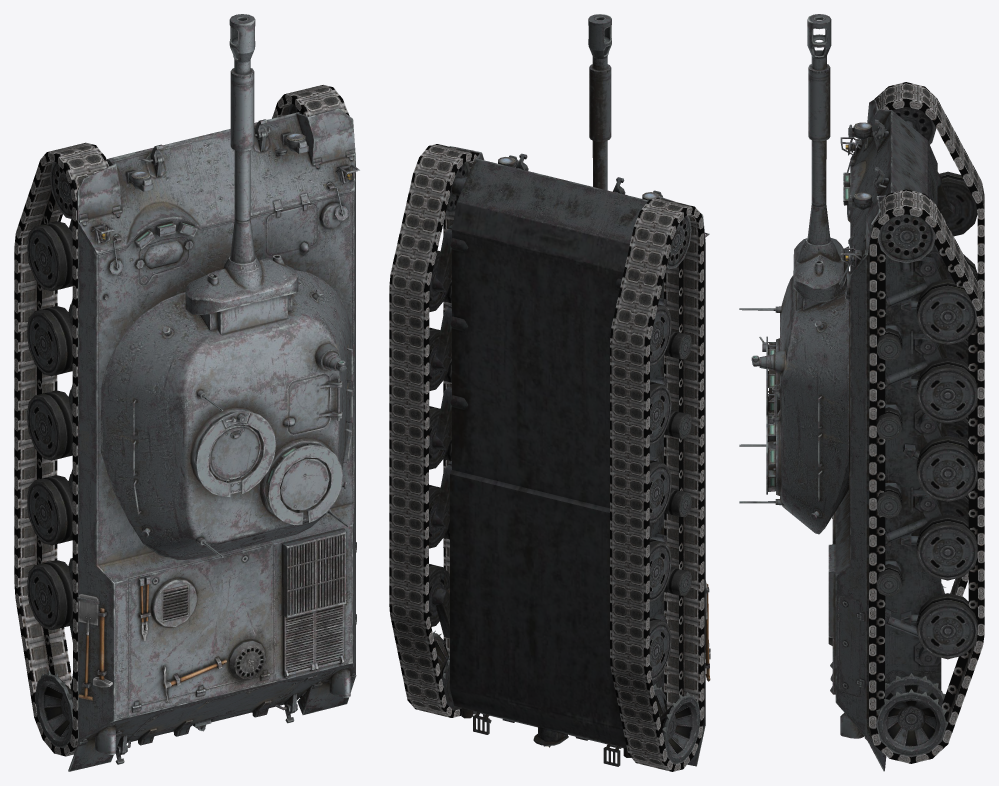
3 views of the same model, side by side, from view 1: azimuth 30°, elevation 25°; view 2: azimuth 150°, elevation 25°; view 3: azimuth 270°, elevation 25° (orthographic). The views are drawn at different scales.
Visible parts, largest first — view 1: hull, turret_01, chassis_track_L, hull_nc_skin, hull_nc_skin2, gun_01, gun_01_mask, hull_nc_hide_elements, chassis_wheel_L_02, chassis_wheel_L_04, chassis_wheel_L_08, chassis_wheel_L_10 (+6 smaller); view 2: hull, chassis_track_L, chassis_track_R, hull_nc_skin2, gun_01, chassis_wheel_L_11, hull_nc_skin, chassis_wheel_L_08, chassis_wheel_L_06, chassis_wheel_L_10, chassis_wheel_L_04, chassis_wheel_L_02 (+10 smaller); view 3: hull, turret_01, chassis_track_R, hull_nc_skin2, chassis_wheel_R_11, gun_01, chassis_track_L, chassis_wheel_R_04, chassis_wheel_R_06, chassis_wheel_R_08, chassis_wheel_R_10, chassis_wheel_R_02 (+13 smaller).
Boxes of the visible parts, left/top/right/bottom form: hull: left=78, top=112, right=355, bottom=742; turret_01: left=101, top=270, right=351, bottom=559; chassis_track_L: left=14, top=142, right=109, bottom=756; hull_nc_skin: left=78, top=119, right=356, bottom=764; hull_nc_skin2: left=68, top=108, right=356, bottom=771; gun_01: left=229, top=14, right=255, bottom=263; gun_01_mask: left=185, top=256, right=298, bottom=314; hull_nc_hide_elements: left=77, top=153, right=359, bottom=697; chassis_wheel_L_02: left=27, top=221, right=72, bottom=291; chassis_wheel_L_04: left=27, top=306, right=72, bottom=376; chassis_wheel_L_08: left=27, top=475, right=72, bottom=545; chassis_wheel_L_10: left=27, top=560, right=72, bottom=630; hull: left=450, top=158, right=705, bottom=748; chassis_track_L: left=610, top=197, right=704, bottom=771; chassis_track_R: left=389, top=144, right=477, bottom=717; hull_nc_skin2: left=432, top=146, right=705, bottom=766; gun_01: left=588, top=14, right=611, bottom=190; chassis_wheel_L_11: left=653, top=684, right=700, bottom=764; hull_nc_skin: left=482, top=153, right=710, bottom=748; chassis_wheel_L_08: left=649, top=538, right=671, bottom=602; chassis_wheel_L_06: left=649, top=460, right=671, bottom=523; chassis_wheel_L_10: left=649, top=617, right=671, bottom=680; chassis_wheel_L_04: left=649, top=381, right=671, bottom=444; chassis_wheel_L_02: left=650, top=304, right=671, bottom=365; hull: left=835, top=110, right=941, bottom=737; turret_01: left=751, top=246, right=850, bottom=534; chassis_track_R: left=869, top=189, right=984, bottom=763; hull_nc_skin2: left=844, top=99, right=955, bottom=771; chassis_wheel_R_11: left=876, top=673, right=948, bottom=757; gun_01: left=807, top=14, right=831, bottom=245; chassis_track_L: left=874, top=82, right=984, bottom=596; chassis_wheel_R_04: left=916, top=357, right=977, bottom=423; chassis_wheel_R_06: left=916, top=436, right=977, bottom=501; chassis_wheel_R_08: left=916, top=514, right=977, bottom=580; chassis_wheel_R_10: left=916, top=593, right=977, bottom=659; chassis_wheel_R_02: left=916, top=279, right=977, bottom=344.
Bounding box in the file's own units: 3.03 × 7.74 × 2.47.
2 materials, 2 textured.
